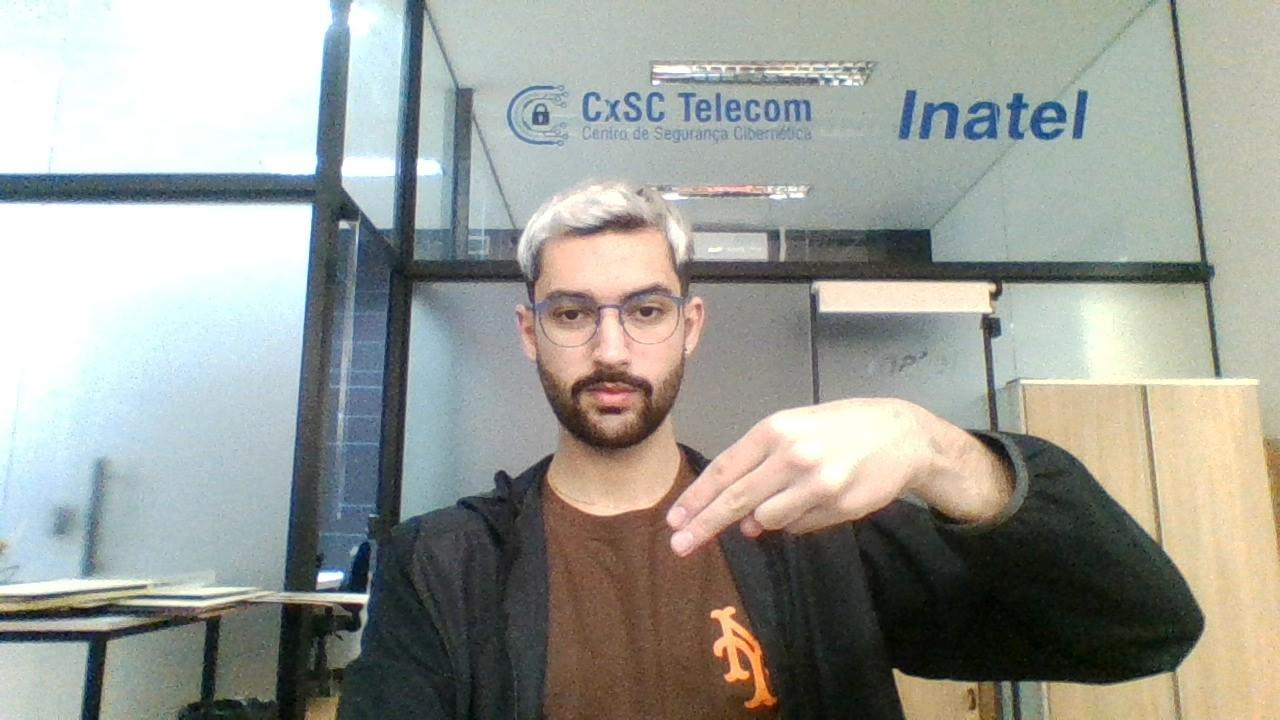N: (662, 394, 944, 560)
